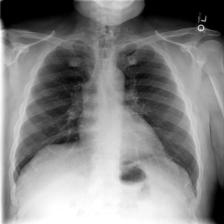normal: (9, 38, 202, 206)
